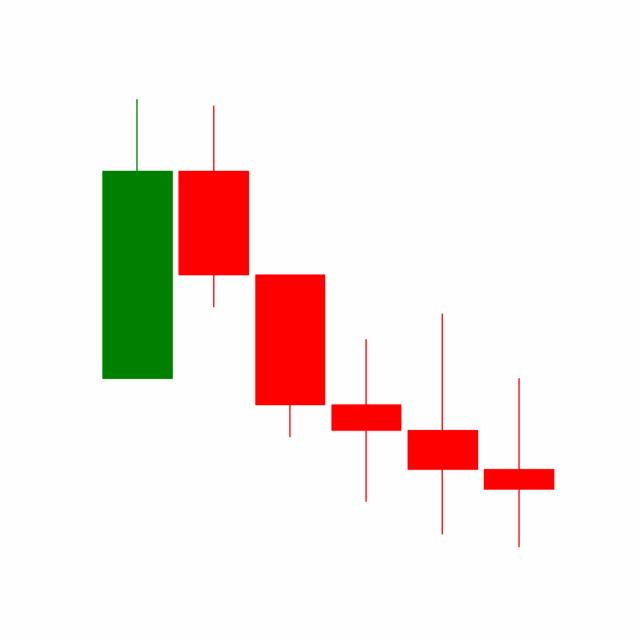Spinning Top: (403, 310, 481, 537)
